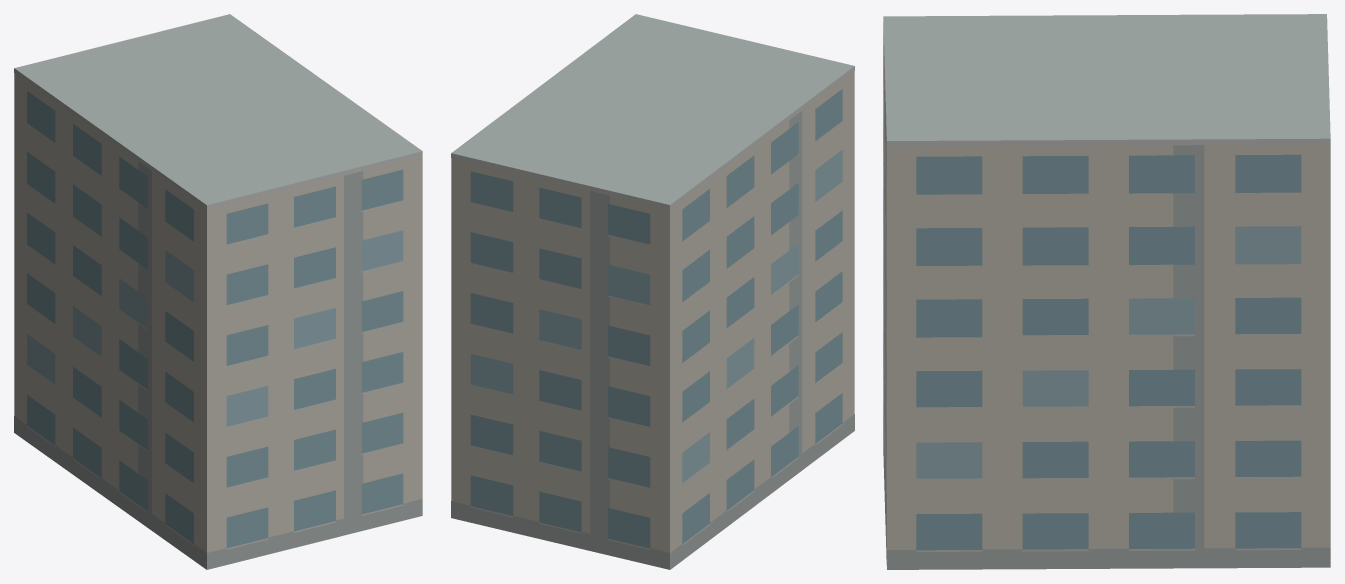
Rendered from survey-upis-32748506.glb.
The picture shows the model from 3 angles, left to right: view 1: azimuth 30°, elevation 25°; view 2: azimuth 150°, elevation 25°; view 3: azimuth 270°, elevation 25°; orthographic projection. The views are drawn at different scales.
Parts seen in each view (by area): view 1: survey-upis-32748506.tmp; view 2: survey-upis-32748506.tmp; view 3: survey-upis-32748506.tmp.
Boxes of the visible parts, x1,y1,x2,y2 form: survey-upis-32748506.tmp: [14, 14, 422, 569]; survey-upis-32748506.tmp: [451, 14, 854, 569]; survey-upis-32748506.tmp: [883, 14, 1330, 569].
Bounding box in the file's own units: 11.64 × 18.3 × 17.31.
